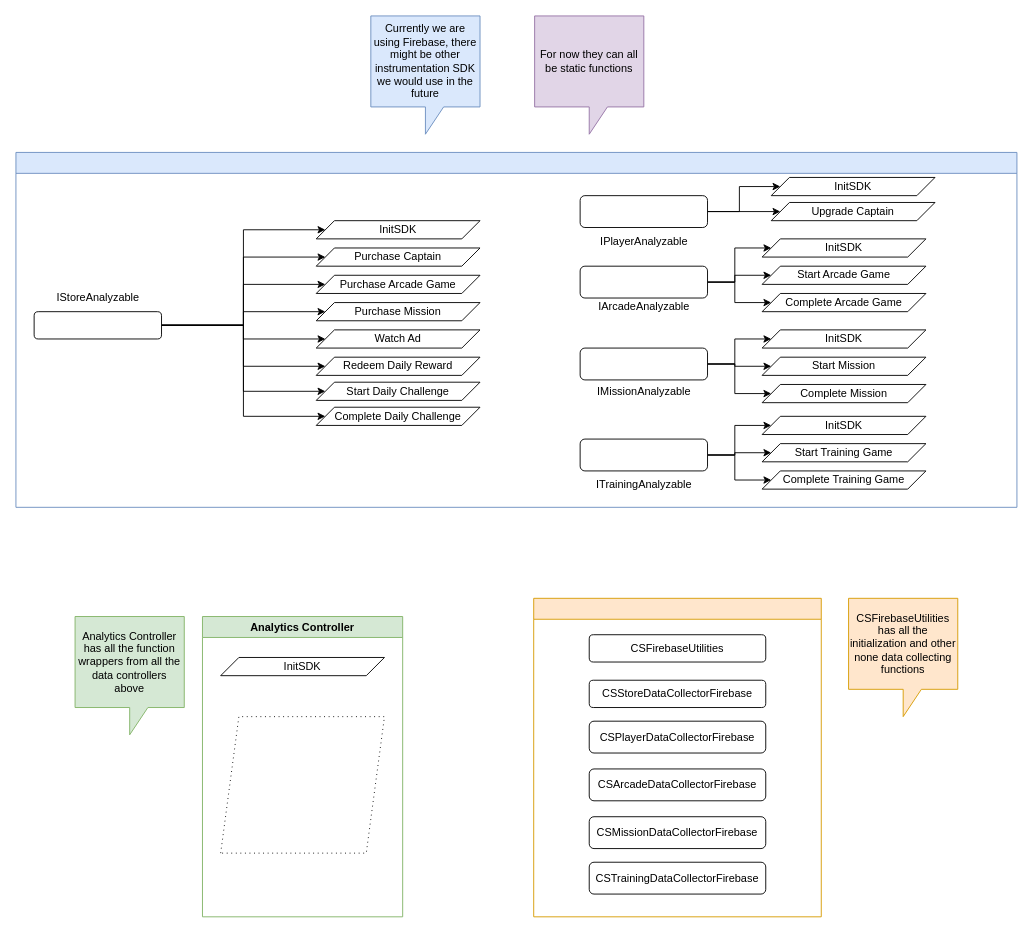
This 1033x933 diagram has some shape labels left out. The box of each missing label's shape, as (x1, y1, x2, y2) in pixels:
(All event function wrappers) . . . .: (220, 716, 384, 853)
CSArcadeDataCollector: (579, 265, 708, 298)
CSMissionDataCollector: (579, 347, 708, 380)
CSPlayerDataCollector: (579, 195, 708, 228)
CSStoreDataCollector: (33, 311, 162, 339)
CSTrainingDataCollector: (579, 438, 708, 471)
Firebase Intergrations: (533, 597, 821, 917)
IAnalyzable: (15, 152, 1017, 507)
